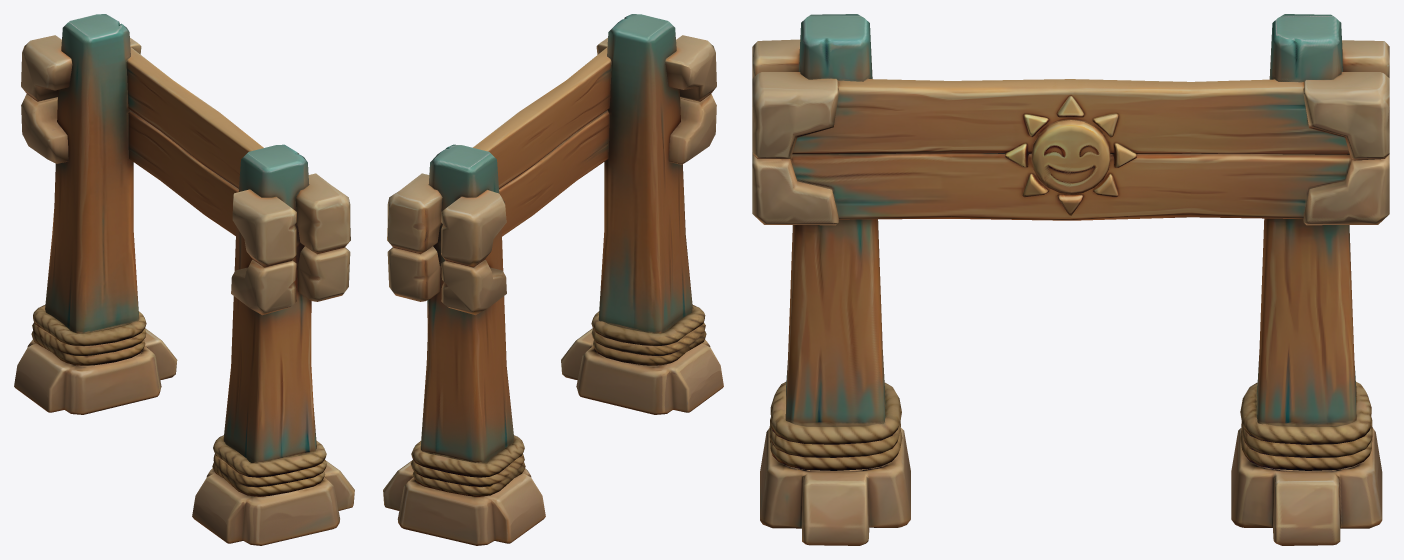
Rendered from raw.glb.
The picture shows the model from 3 angles, left to right: view 1: azimuth 30°, elevation 25°; view 2: azimuth 150°, elevation 25°; view 3: azimuth 270°, elevation 25°; orthographic projection. The views are drawn at different scales.
Visible parts, largest first — view 1: tripo_node_94b2abda-be71-4456-9f23-217706d11cc7; view 2: tripo_node_94b2abda-be71-4456-9f23-217706d11cc7; view 3: tripo_node_94b2abda-be71-4456-9f23-217706d11cc7.
Boxes of the visible parts, x1,y1,x2,y2 form: tripo_node_94b2abda-be71-4456-9f23-217706d11cc7: [14, 14, 354, 545]; tripo_node_94b2abda-be71-4456-9f23-217706d11cc7: [383, 14, 723, 545]; tripo_node_94b2abda-be71-4456-9f23-217706d11cc7: [752, 14, 1389, 545].
Bounding box in the file's own units: 0.3237 × 0.8228 × 0.9995.
1 material, 1 textured.
